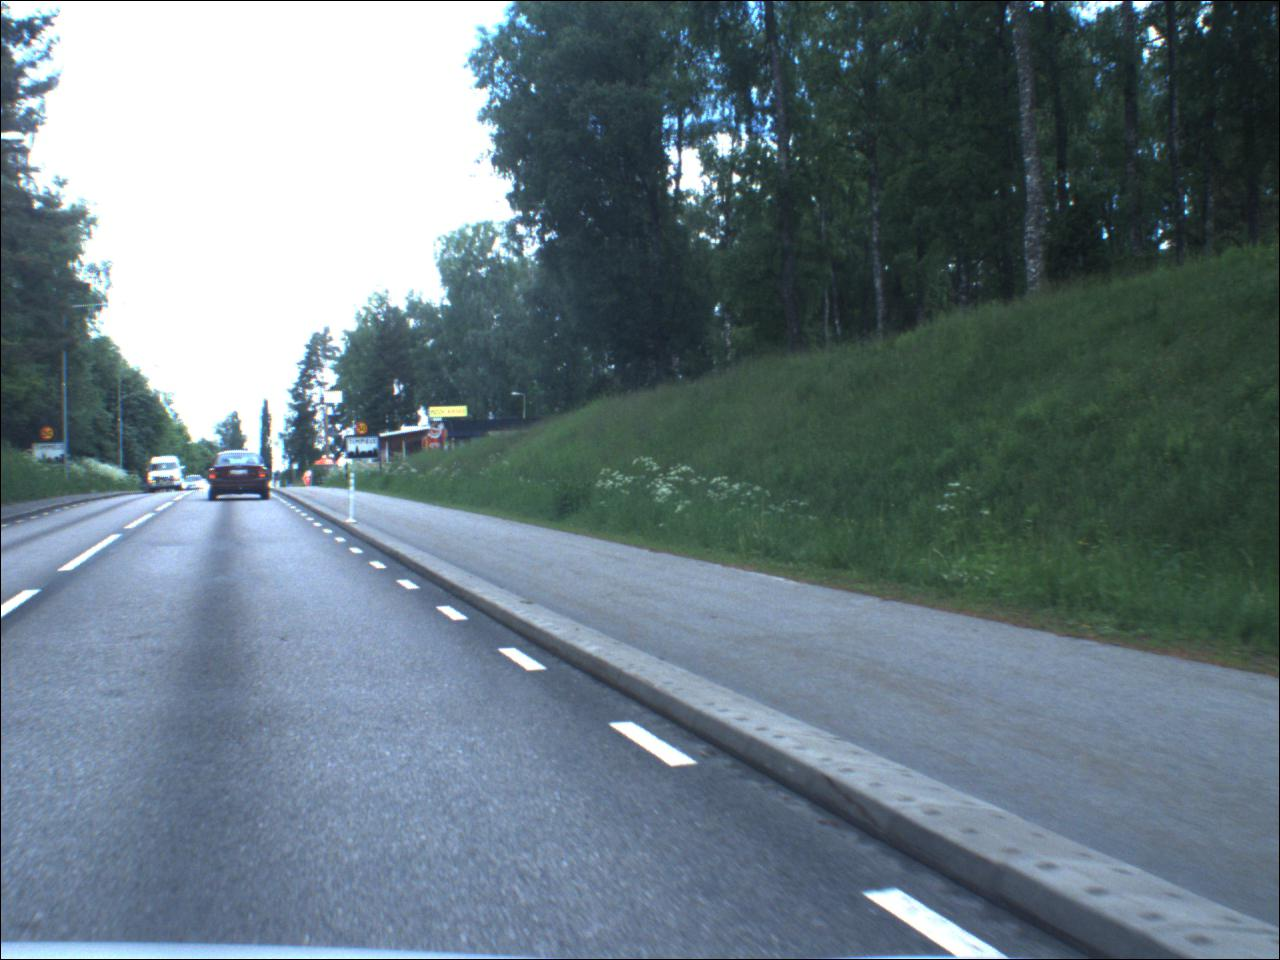50_SIGN: (38, 425, 61, 443), (355, 419, 371, 437)
